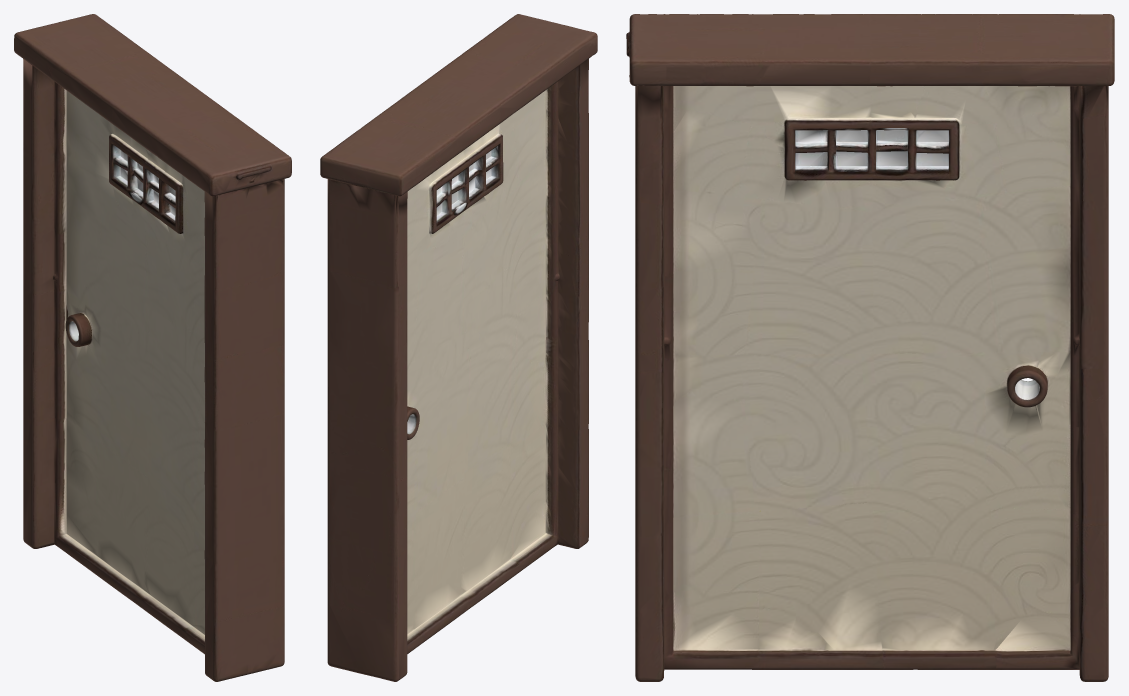
Rendered from JP_사물_s2_door_restroom_old.glb.
The picture shows the model from 3 angles, left to right: view 1: azimuth 30°, elevation 25°; view 2: azimuth 150°, elevation 25°; view 3: azimuth 270°, elevation 25°; orthographic projection. The views are drawn at different scales.
Parts seen in each view (by area): view 1: tripo_node_d2f163e9-70df-4f04-b3f9-cc5c411c2d17; view 2: tripo_node_d2f163e9-70df-4f04-b3f9-cc5c411c2d17; view 3: tripo_node_d2f163e9-70df-4f04-b3f9-cc5c411c2d17.
Boxes of the visible parts, x1,y1,x2,y2 form: tripo_node_d2f163e9-70df-4f04-b3f9-cc5c411c2d17: (14,14,291,681); tripo_node_d2f163e9-70df-4f04-b3f9-cc5c411c2d17: (320,14,597,681); tripo_node_d2f163e9-70df-4f04-b3f9-cc5c411c2d17: (626,14,1114,681).
Bounding box in the file's own units: 0.1691 × 0.9999 × 0.7081.
1 material, 1 textured.
